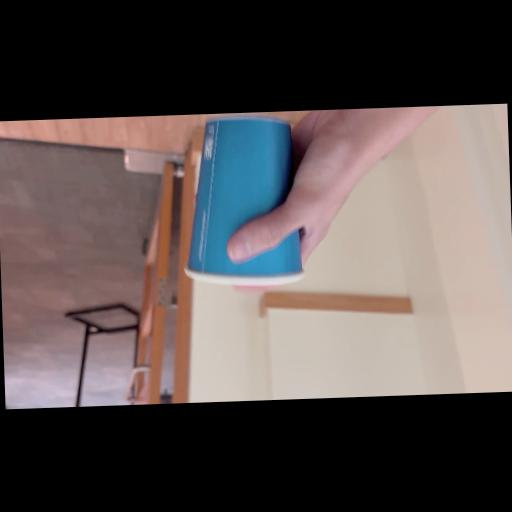lp_paper_cup: (168, 110, 314, 292)
